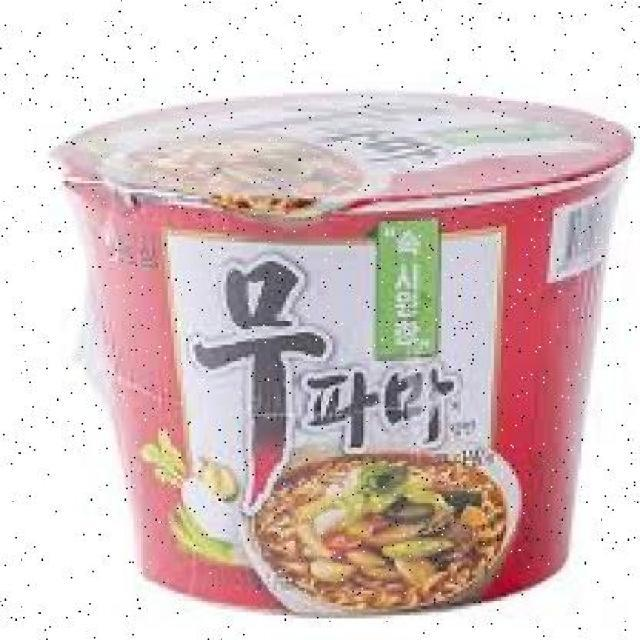Miscellaneous: (58, 90, 614, 616)
